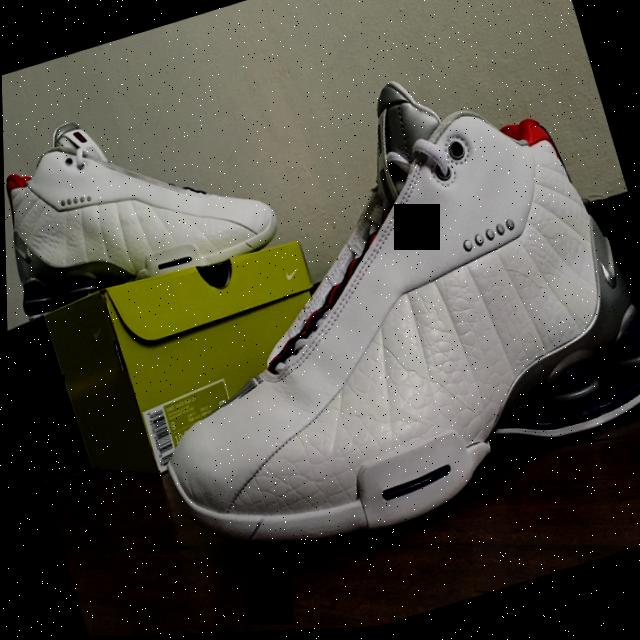shoes: (79, 0, 640, 592), (0, 16, 266, 346)
